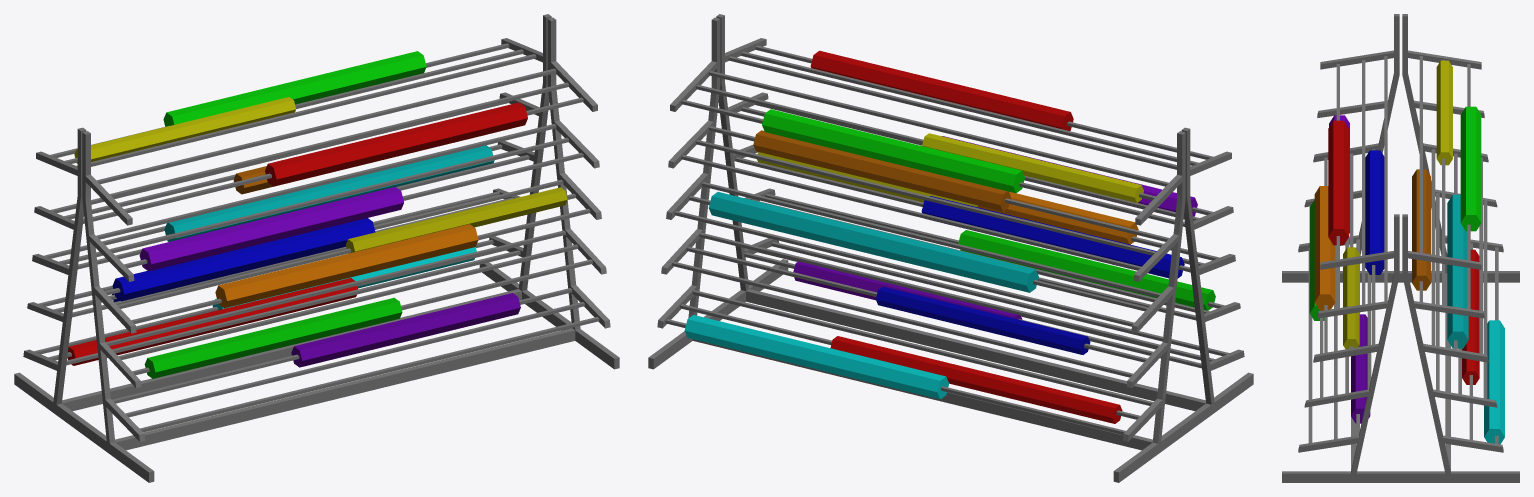
The model's file is Manteles.fbx.
The picture shows the model from 3 angles, left to right: view 1: azimuth 30°, elevation 25°; view 2: azimuth 150°, elevation 25°; view 3: azimuth 270°, elevation 25°; orthographic projection. The views are drawn at different scales.
Parts seen in each view (by area): view 1: polySurface13; view 2: polySurface13; view 3: polySurface13.
Part boxes in pixels (box(x1,y1,x2,y2)): polySurface13: box(14, 14, 619, 482); polySurface13: box(648, 14, 1253, 482); polySurface13: box(1282, 14, 1519, 482).
Bounding box in the file's own units: 291 × 179 × 144.
